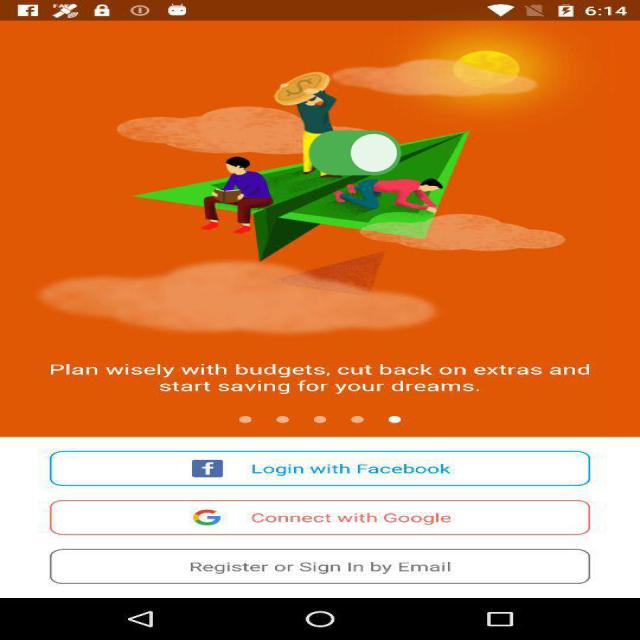social proof: (305, 113, 405, 196)
